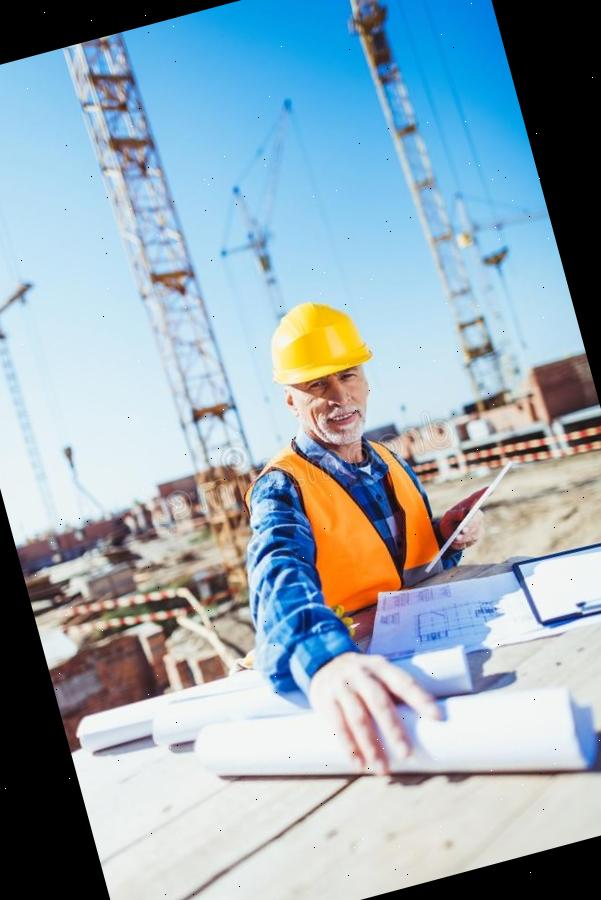helmet: (250, 290, 380, 408)
wear: (225, 430, 452, 644)
